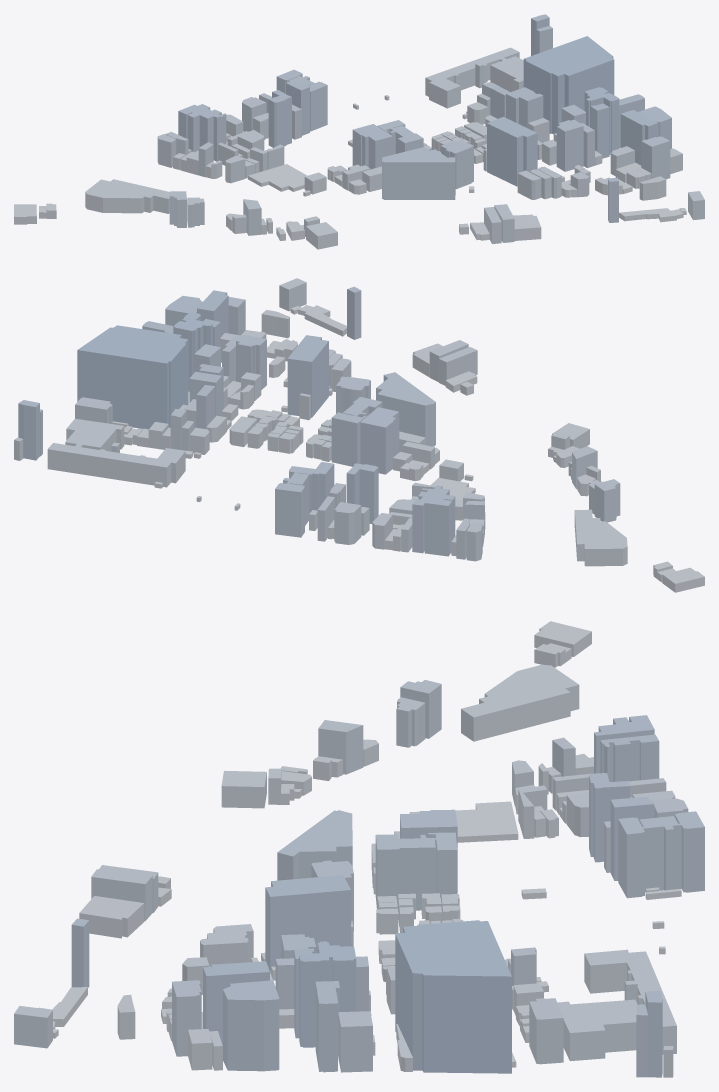
3 views of the same model, one above another, from view 1: azimuth 30°, elevation 25°; view 2: azimuth 150°, elevation 25°; view 3: azimuth 270°, elevation 25° (orthographic). The views are drawn at different scales.
Size of the model in its own units: 495 by 50.51 by 326.
